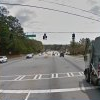crosswalk: (12, 71, 84, 81)
